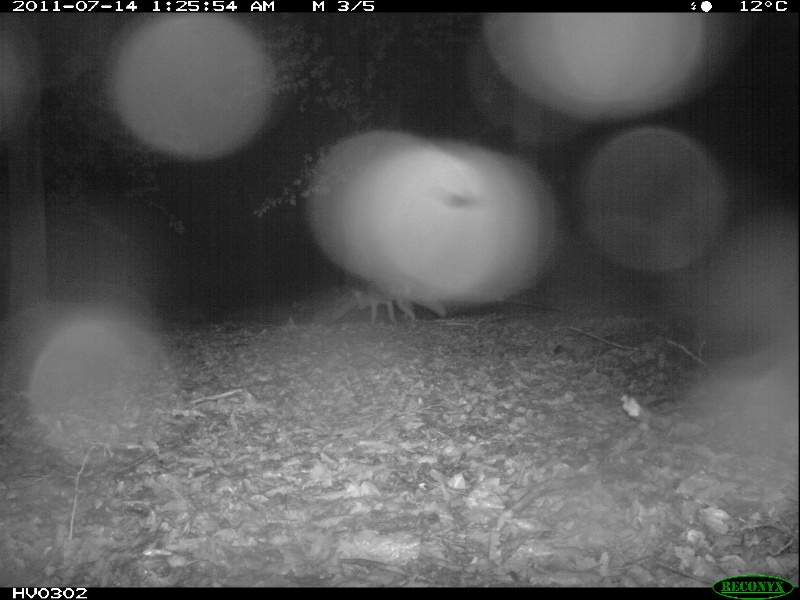fox: (352, 276, 453, 326)
